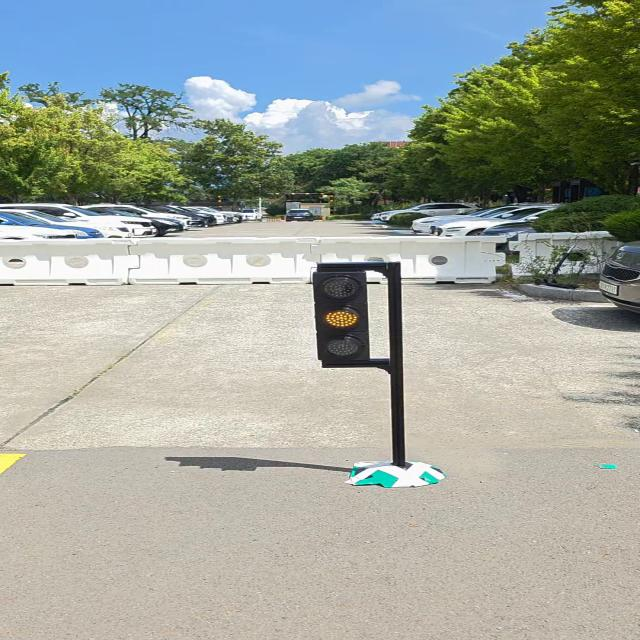yellow: (312, 271, 370, 361)
